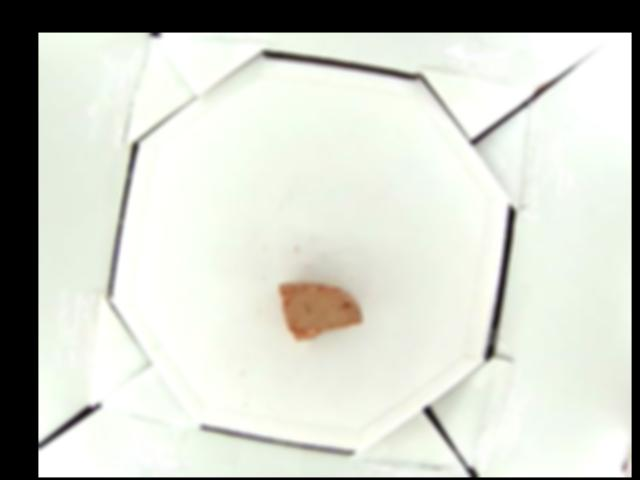Brisk: (279, 281, 363, 341)
